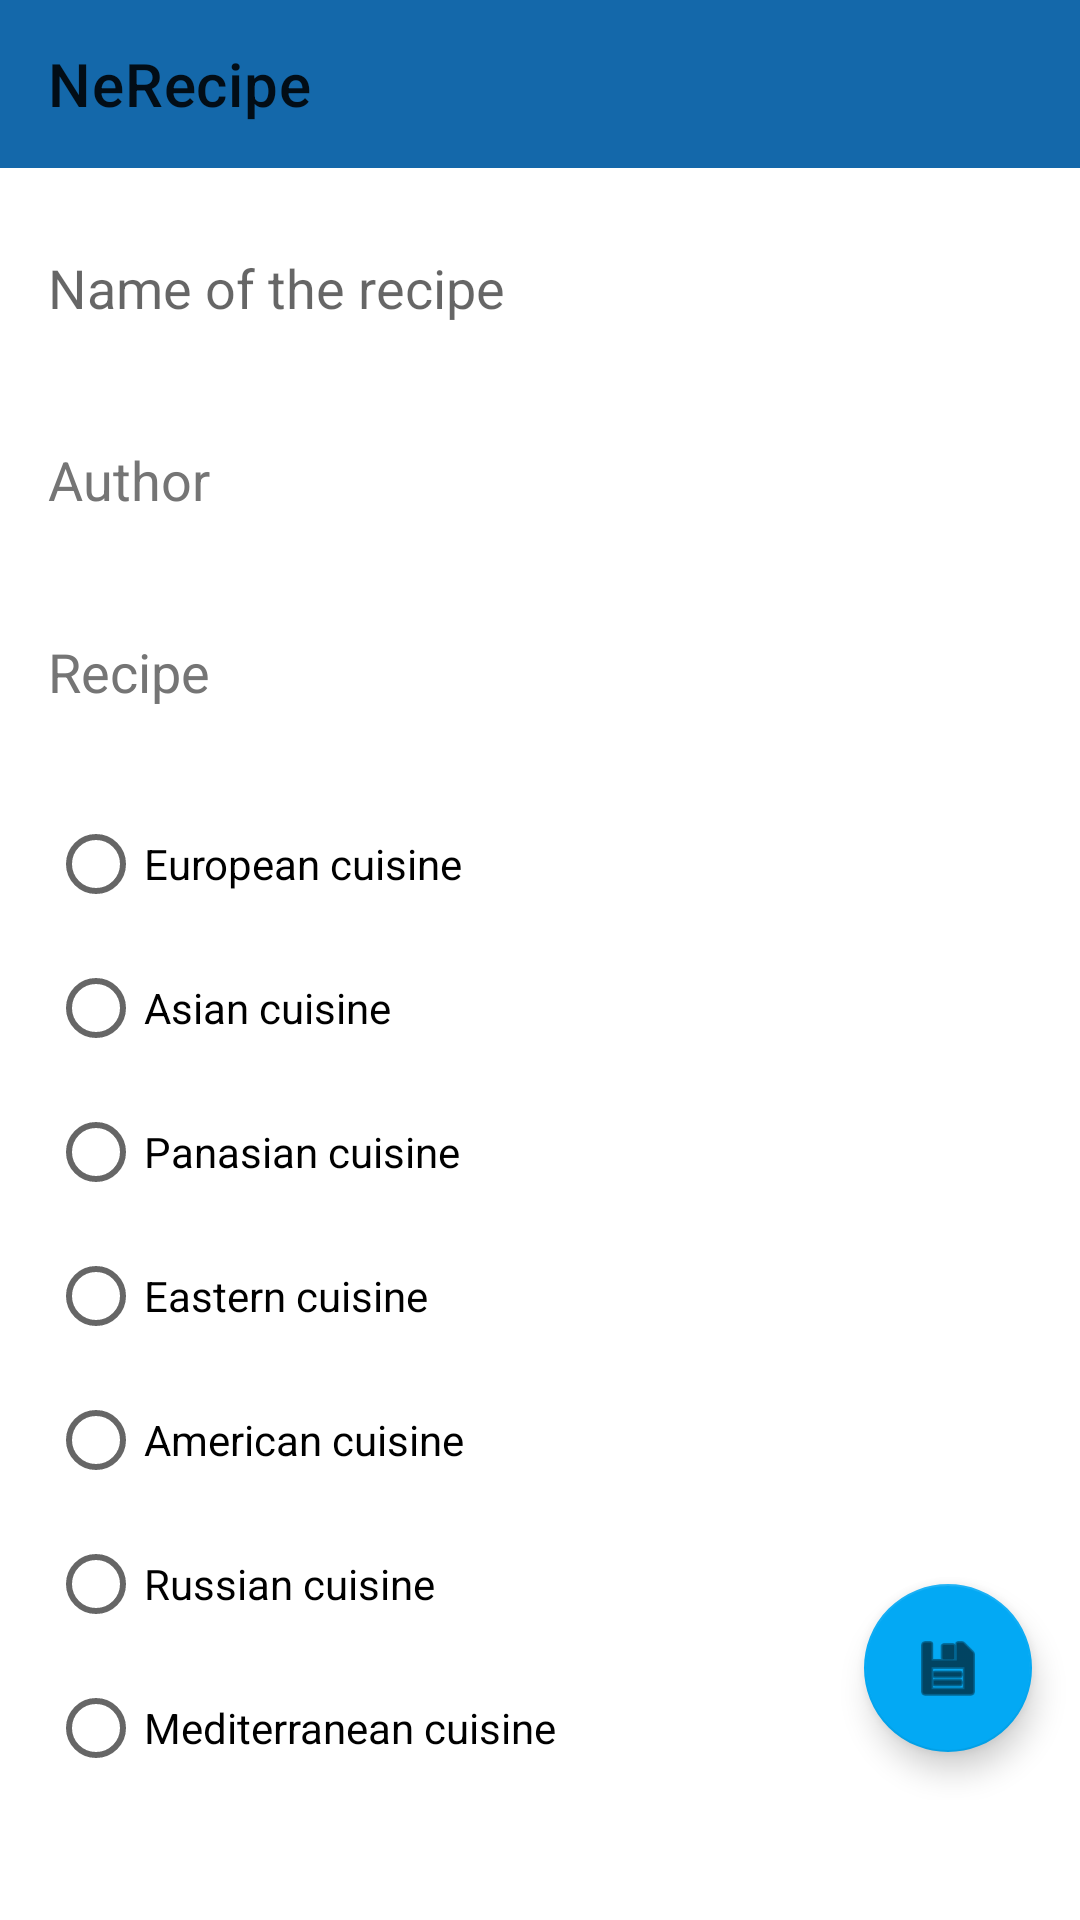

Named icons in this screenshot (1080 x 1920) and their bounding boxes, (x1, y1, x2, y2):
Save: (864, 1584, 1032, 1752)
